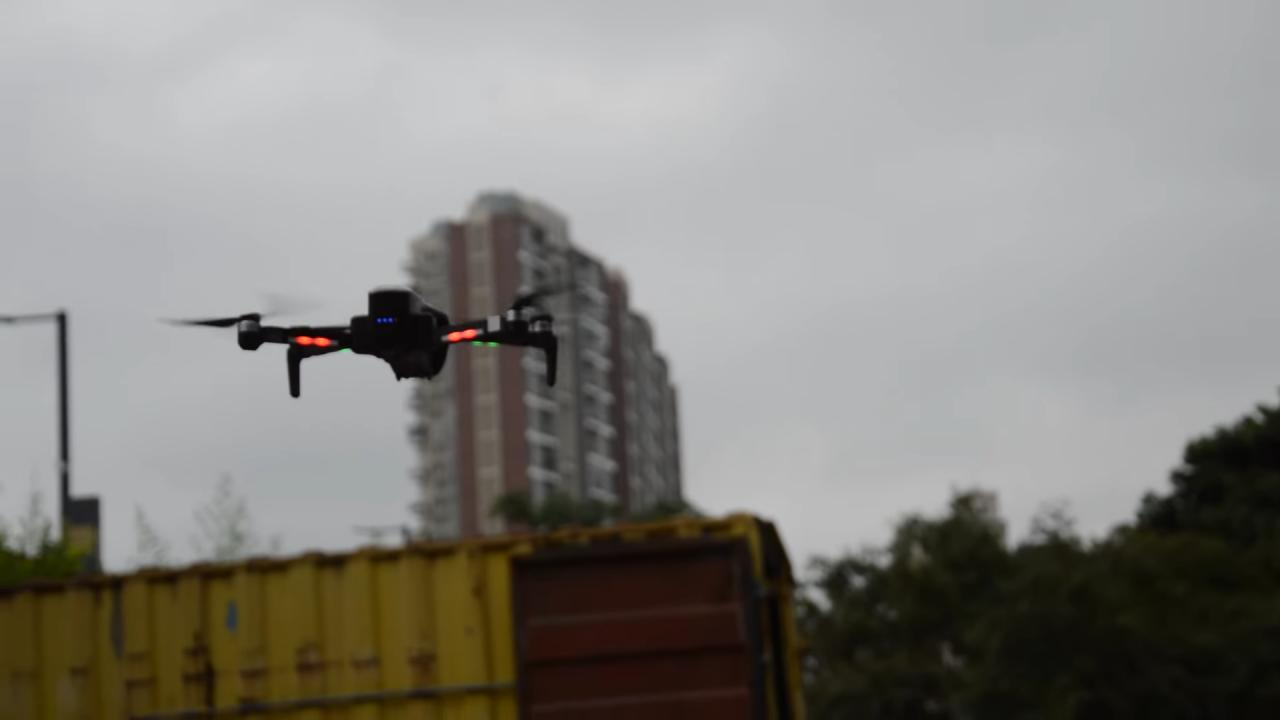Drone: (146, 275, 614, 411)
